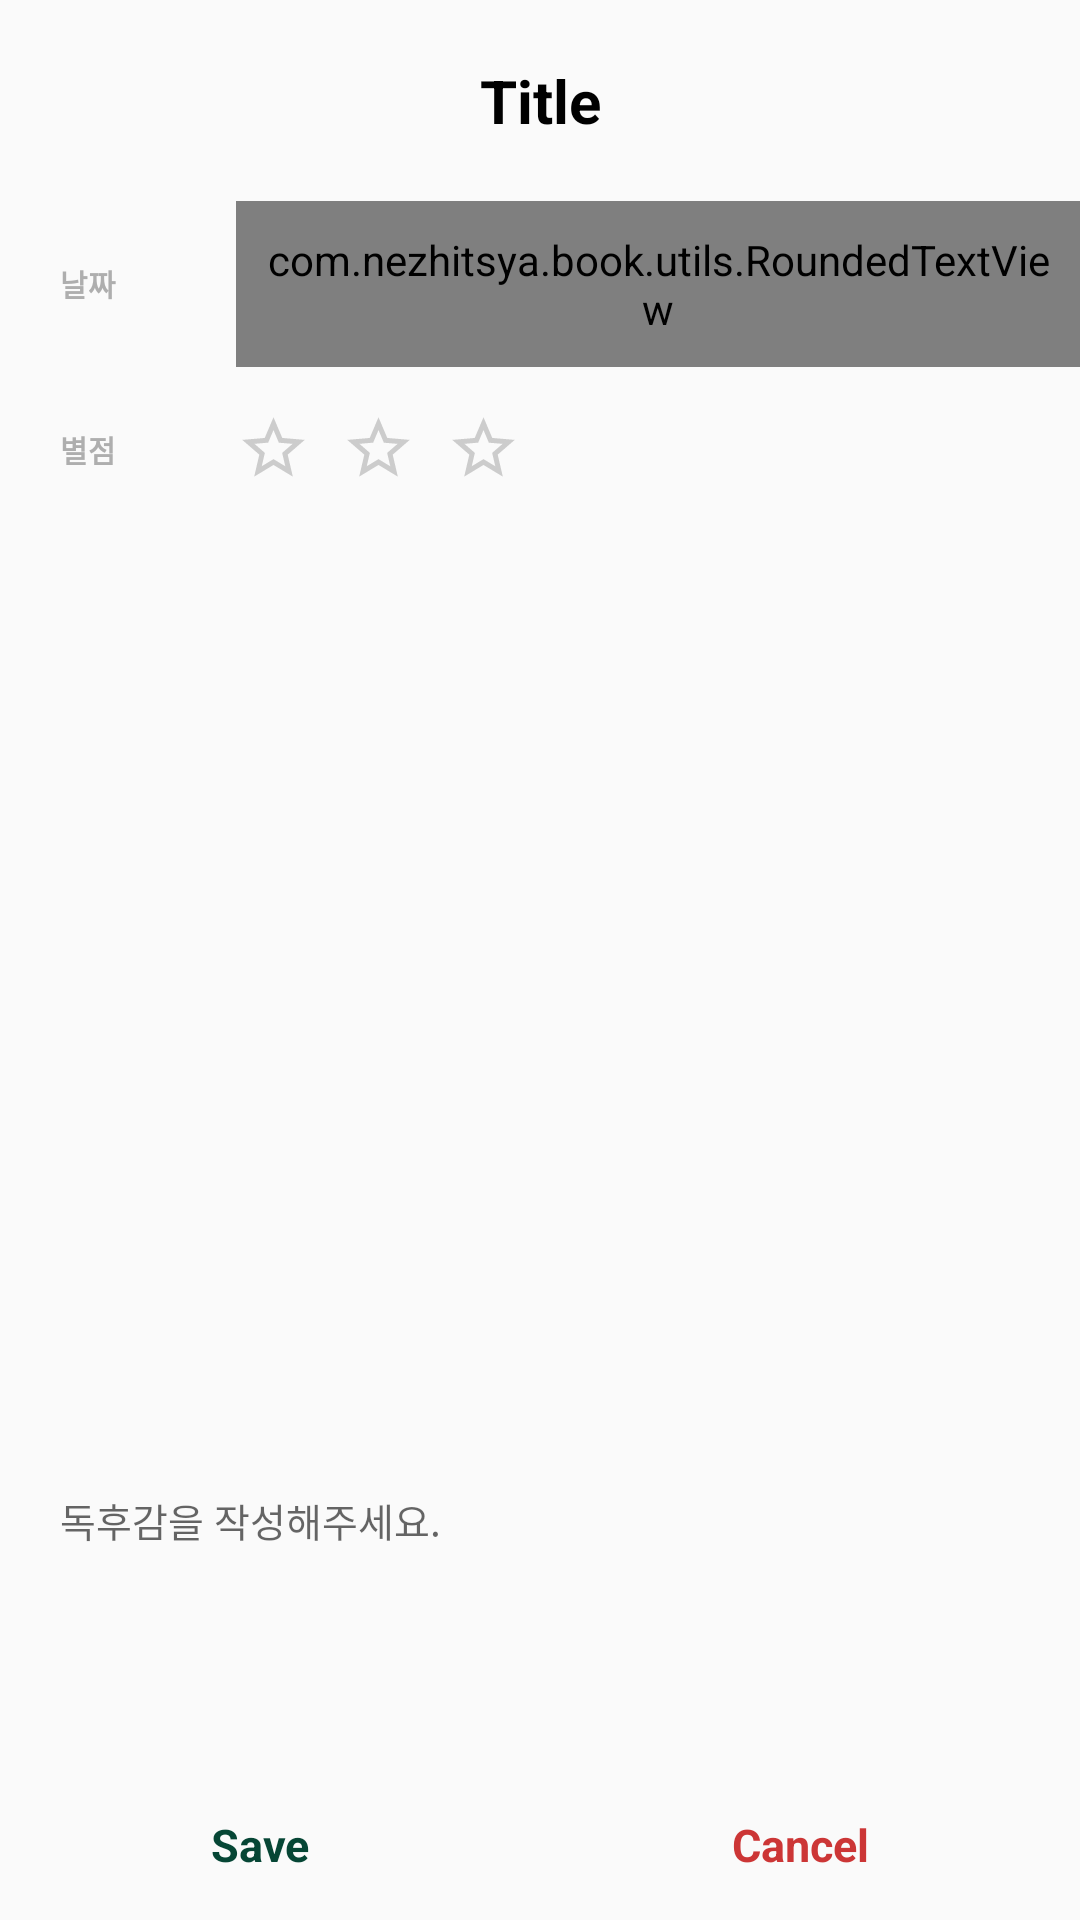

Icons on this 1080×1920 Android screen, each with the point to tap as (x=x, y=y):
star empty: (x=273, y=447), (x=378, y=447), (x=483, y=447)
